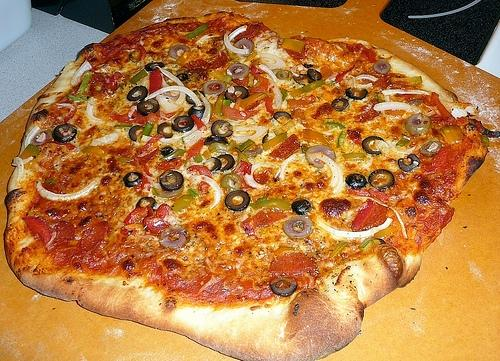onion: (160, 90, 210, 144), (355, 196, 408, 238), (316, 218, 393, 237), (150, 66, 186, 106), (37, 178, 100, 200), (143, 86, 202, 106), (309, 153, 340, 187), (244, 162, 281, 188), (218, 25, 248, 57), (196, 175, 222, 210), (279, 147, 302, 181), (305, 145, 335, 168), (223, 32, 250, 54), (70, 60, 92, 87), (232, 126, 268, 142), (374, 102, 424, 112), (86, 96, 104, 123), (347, 74, 379, 88), (260, 53, 288, 68), (90, 132, 120, 146), (155, 94, 178, 112), (24, 125, 40, 148), (258, 64, 278, 82), (234, 39, 254, 57), (381, 89, 430, 96), (348, 242, 356, 250)
